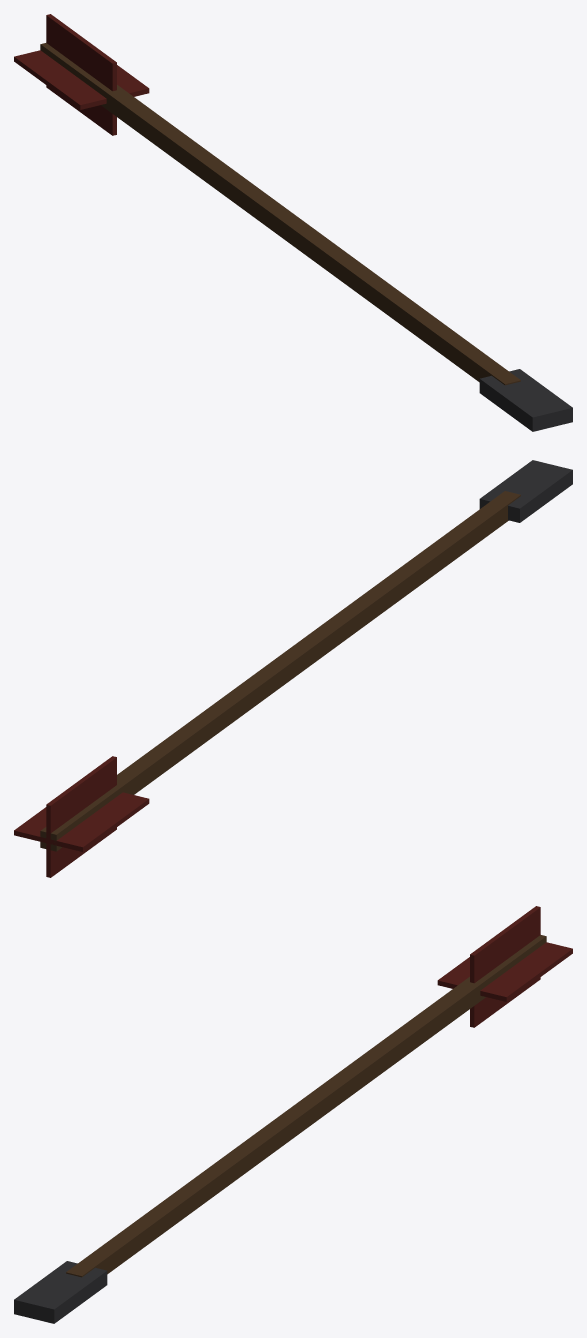
Rendered from arrow.glb.
The picture shows the model from 3 angles, top to bottom: view 1: azimuth 30°, elevation 25°; view 2: azimuth 150°, elevation 25°; view 3: azimuth 330°, elevation 25°; orthographic projection.
Visible parts, largest first — view 1: Arrow; view 2: Arrow; view 3: Arrow.
Boxes of the visible parts, x1=… form: Arrow: x1=14, y1=14, x2=572, y2=431; Arrow: x1=14, y1=460, x2=572, y2=877; Arrow: x1=14, y1=906, x2=572, y2=1323.
Bounding box in the file's own units: 0.06 × 0.06 × 0.76.
